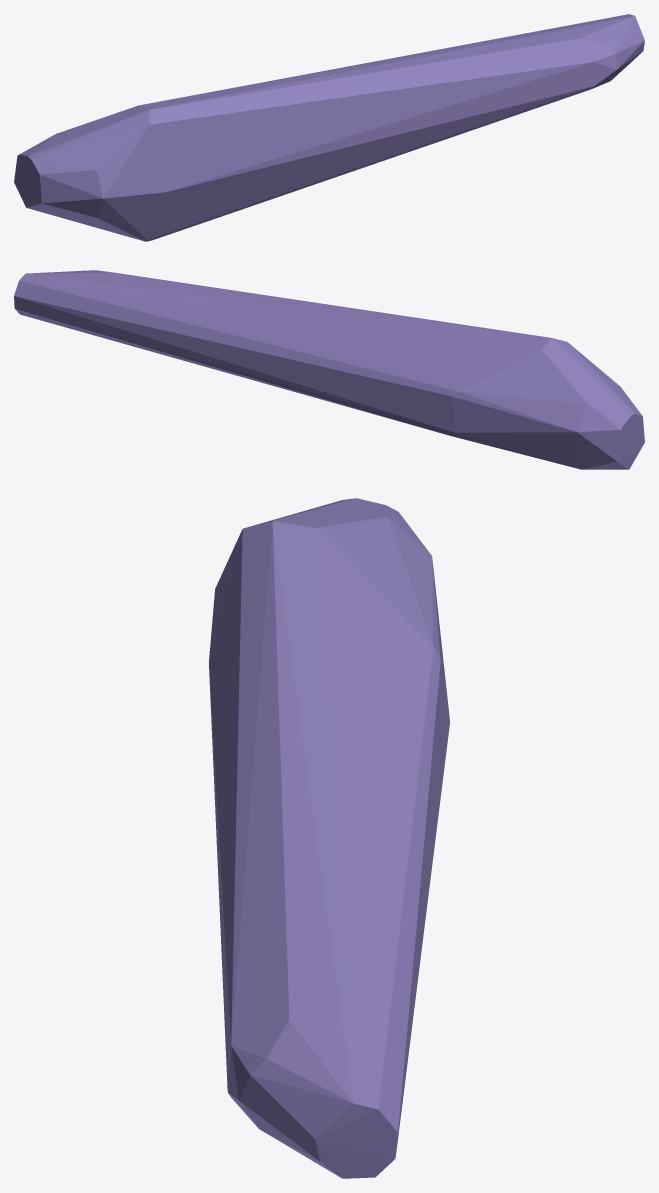
The model's file is syringe_a05.glb.
The picture shows the model from 3 angles, top to bottom: view 1: azimuth 30°, elevation 25°; view 2: azimuth 150°, elevation 25°; view 3: azimuth 270°, elevation 25°; orthographic projection. The views are drawn at different scales.
Visible parts, largest first — view 1: geometry_0; view 2: geometry_0; view 3: geometry_0.
Part boxes in pixels (box(x1,y1,x2,y2)): geometry_0: box(14, 14, 644, 241); geometry_0: box(14, 270, 644, 469); geometry_0: box(209, 498, 449, 1178).
Size of the model in its own units: 0.48 by 0.0959 by 0.0827.
